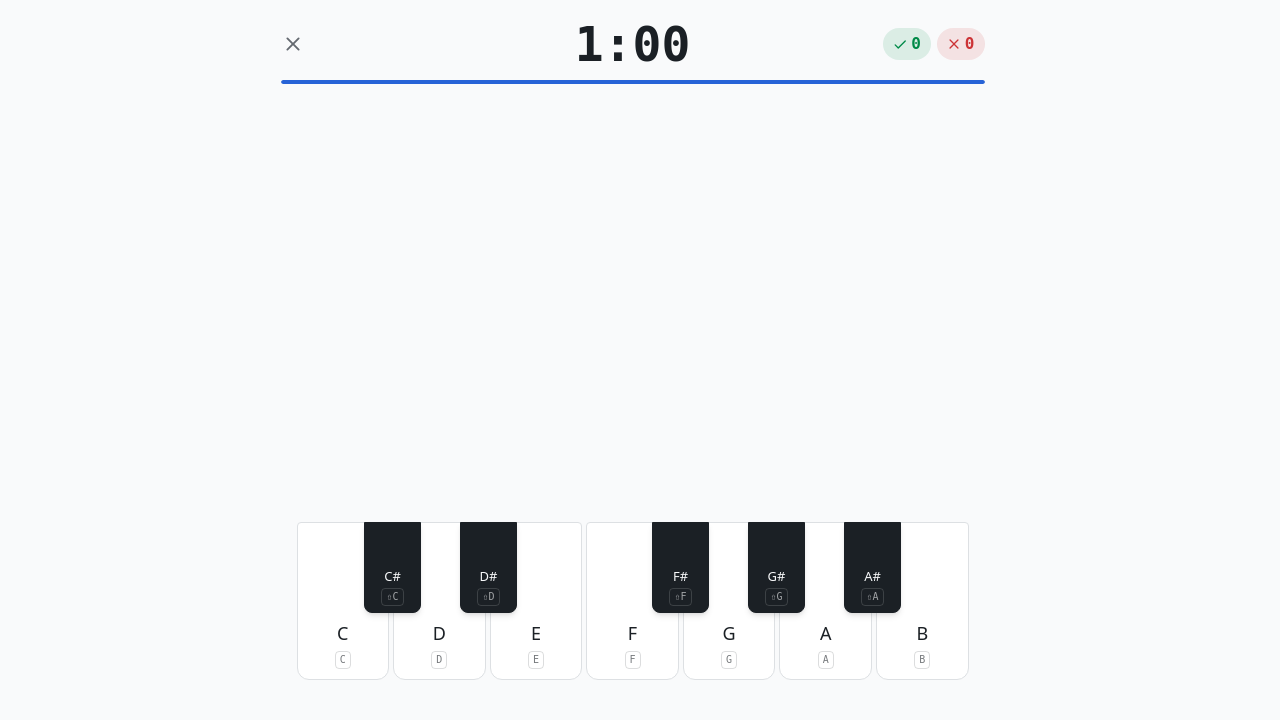
RunPhase leaving mid-session › pauses on ✕ once something was answered, and the clock stands still
Press ⇧c
Wait 2000 ms
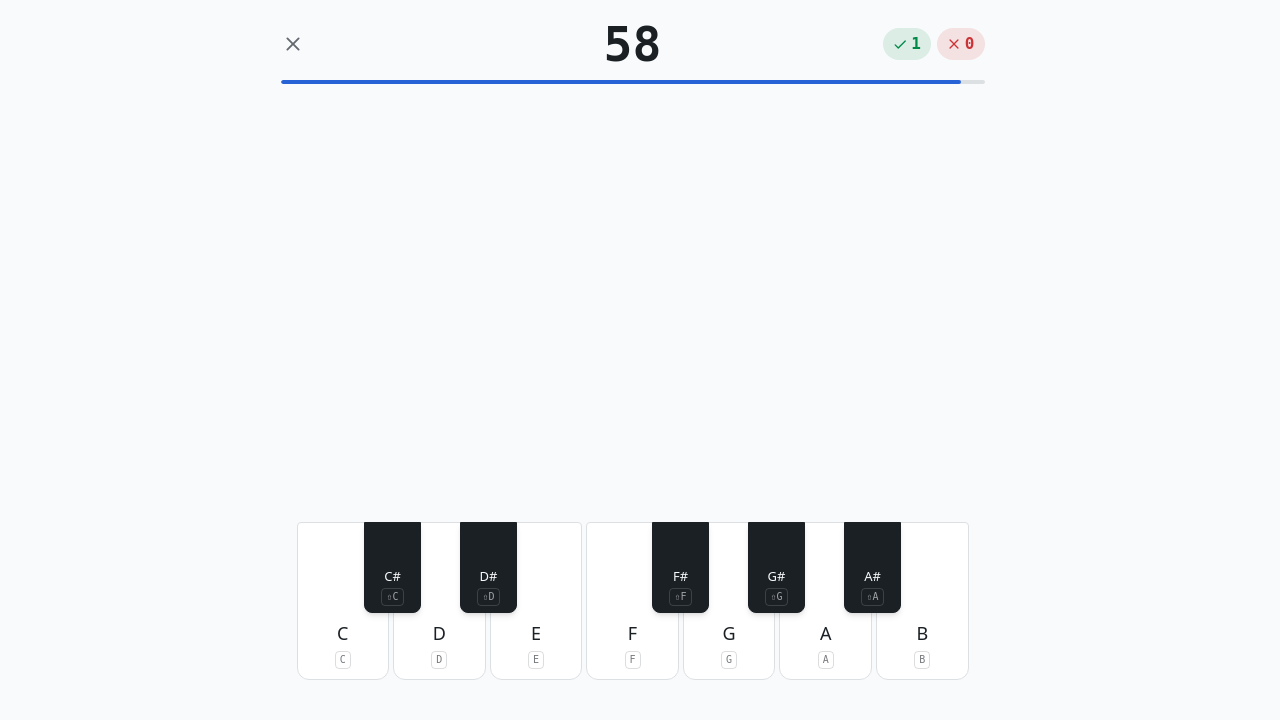
Click the button named "Thoát lượt tập" at (292, 44), box [272,24,312,64]
Wait 5000 ms
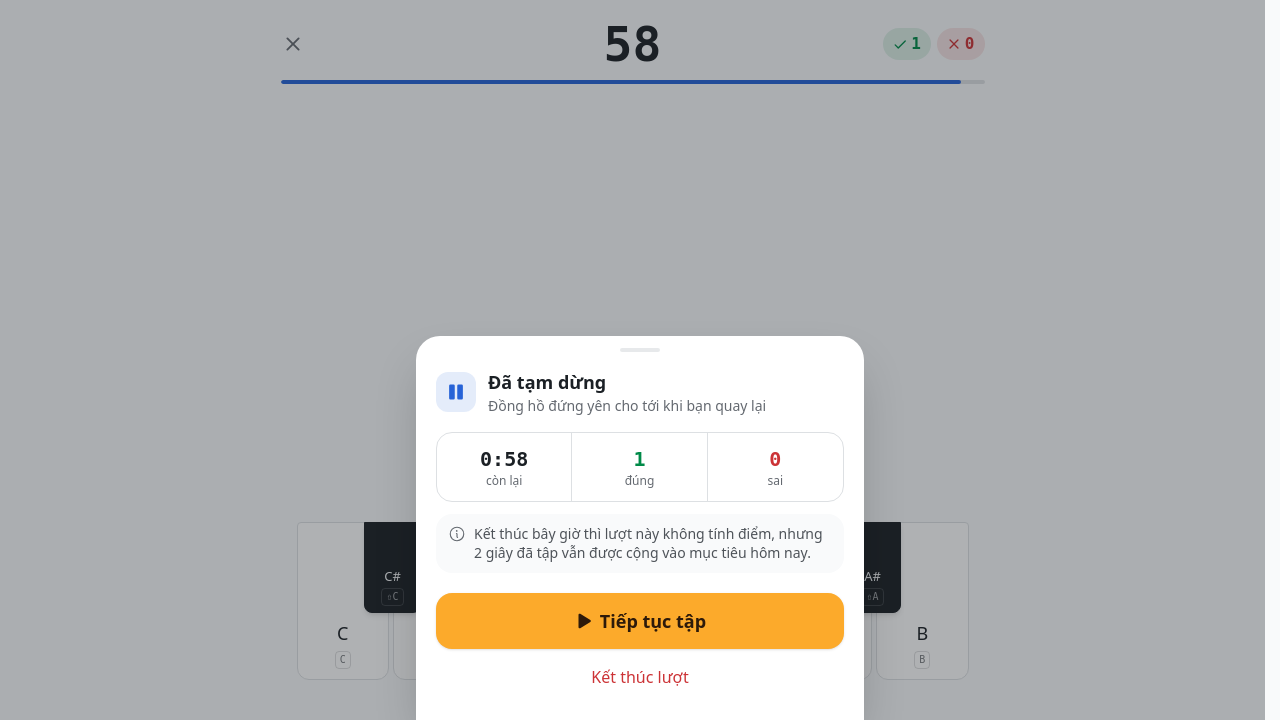
Now the dialog "Đã tạm dừng" is shown, box [416,336,864,719]
